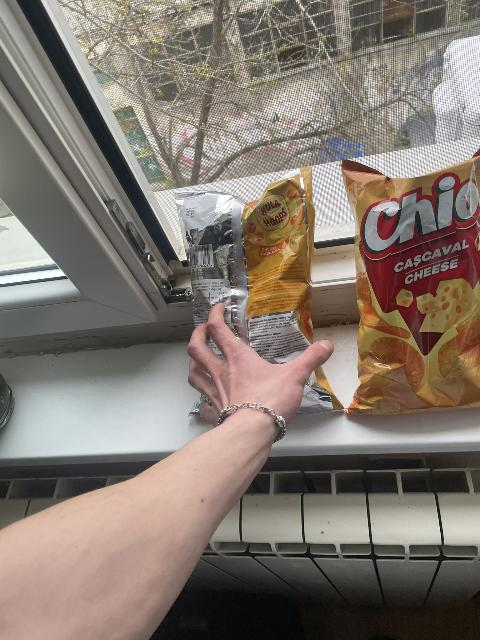Chio Cascaval 125g: (343, 146, 479, 410)
Chio Hula Hoops Cheese 70g: (181, 172, 328, 401)
